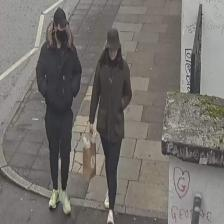person: (36, 7, 82, 215), (89, 29, 132, 224)
